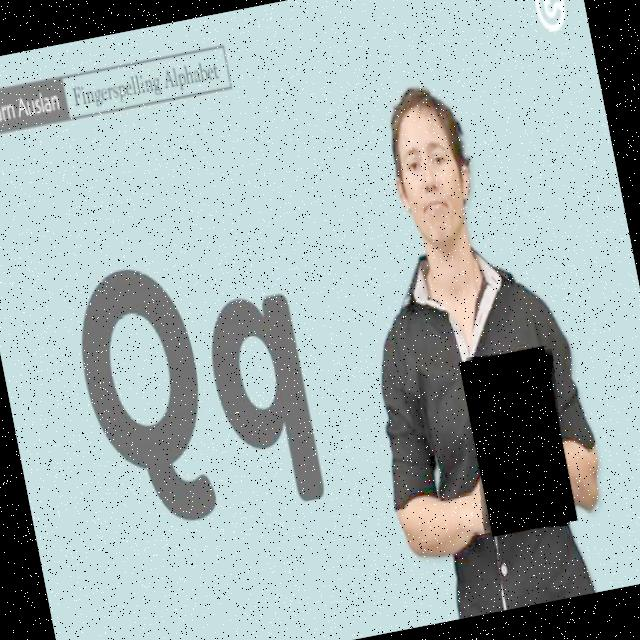Q: (456, 345, 584, 541)
